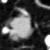node: (7, 14, 35, 42), (42, 34, 50, 47), (2, 25, 9, 34), (1, 1, 8, 4)
